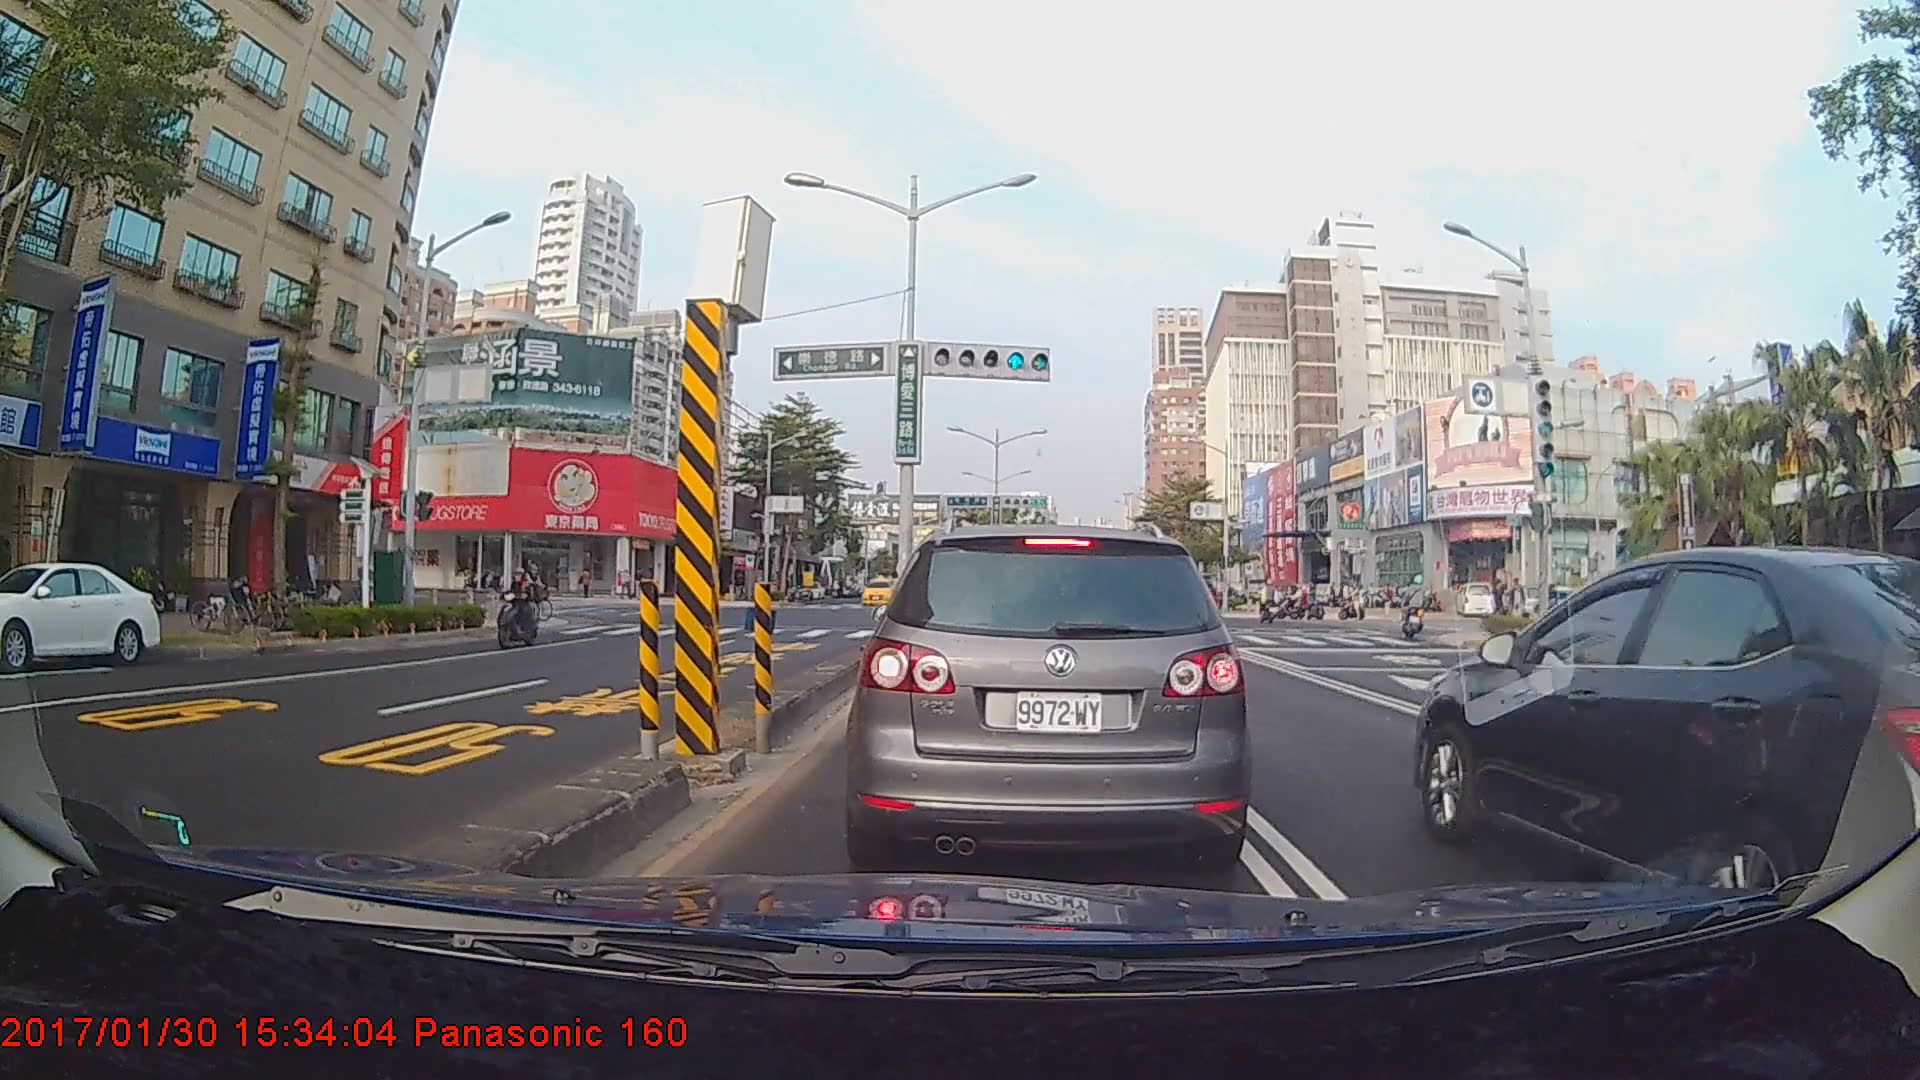rider: (493, 565, 546, 652), (1396, 573, 1436, 641), (1249, 574, 1278, 631)
vehicle: (1409, 534, 1920, 900), (858, 519, 1244, 875), (0, 561, 162, 671), (859, 577, 896, 606)
